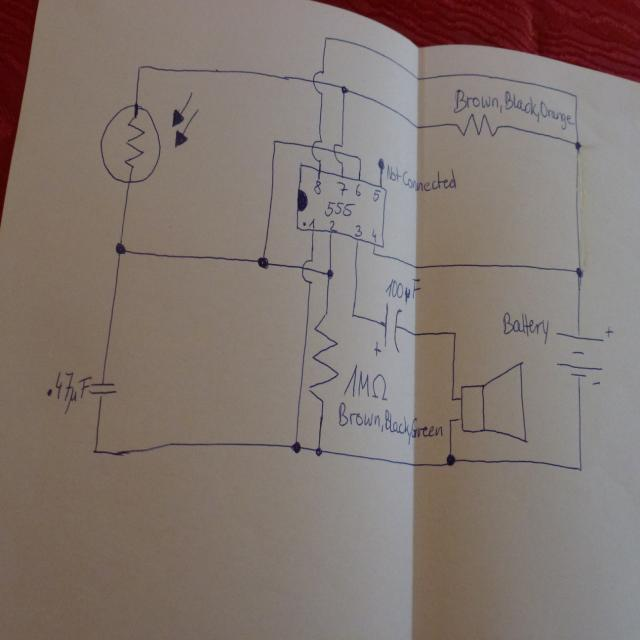capacitor: (372, 302, 404, 358), (86, 378, 118, 398)
crossover: (300, 257, 316, 285), (311, 68, 326, 94), (331, 141, 345, 165), (310, 138, 323, 162)
junction: (112, 236, 128, 258), (288, 437, 303, 455), (311, 442, 325, 458), (256, 254, 270, 270), (89, 441, 102, 458), (444, 451, 456, 468), (572, 137, 583, 152), (134, 60, 145, 74), (324, 265, 334, 280), (574, 264, 584, 278), (339, 82, 349, 95), (576, 462, 584, 473), (451, 328, 458, 337), (349, 310, 356, 319), (322, 32, 328, 42), (572, 92, 579, 100), (447, 416, 453, 424), (271, 137, 277, 145), (356, 153, 362, 161), (449, 394, 455, 402), (413, 262, 418, 270)
resistor: (99, 89, 200, 185), (310, 310, 338, 410), (450, 111, 503, 142)
source: (552, 325, 613, 388)
terminal: (376, 156, 384, 171)
text: (337, 400, 443, 446), (454, 88, 572, 121), (386, 163, 456, 193), (501, 310, 551, 346), (53, 370, 92, 414), (343, 364, 388, 402), (383, 275, 416, 303), (324, 199, 355, 219), (337, 177, 347, 197), (301, 216, 316, 228), (312, 177, 322, 194), (370, 227, 379, 244), (327, 218, 338, 230), (354, 180, 362, 196), (353, 222, 362, 236), (372, 189, 379, 199)
